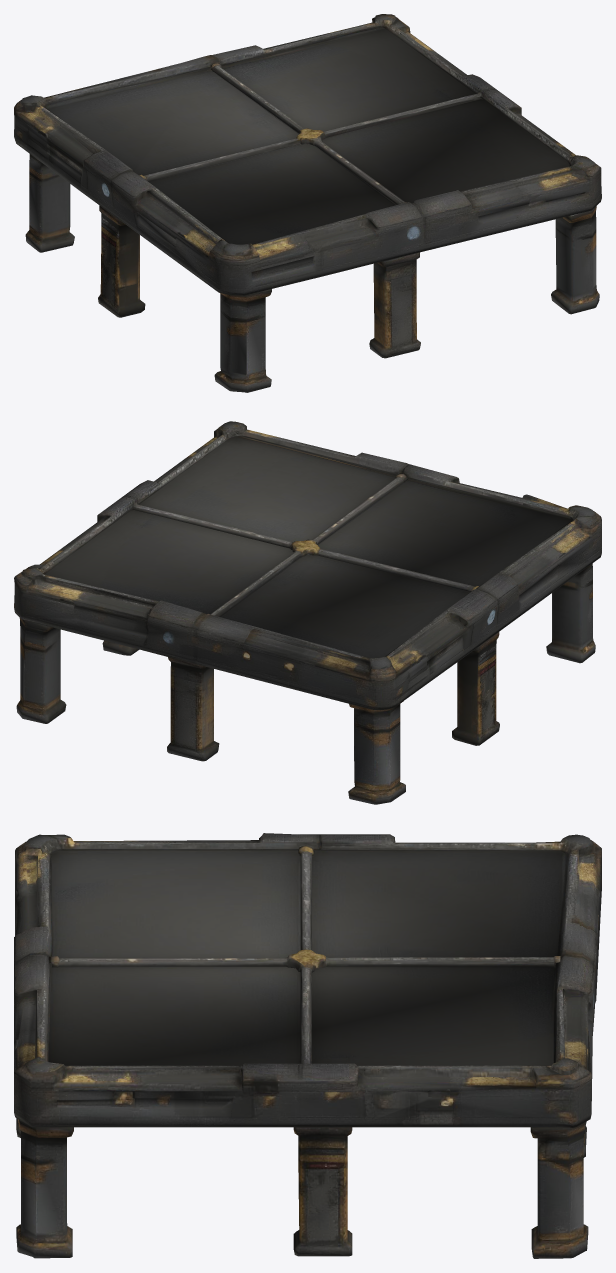
Rendered from selected.glb.
The picture shows the model from 3 angles, top to bottom: view 1: azimuth 30°, elevation 25°; view 2: azimuth 150°, elevation 25°; view 3: azimuth 270°, elevation 25°; orthographic projection. The views are drawn at different scales.
Visible parts, largest first — view 1: tripo_node_9d1d53e7-c334-4790-a00f-2185dd083b6f; view 2: tripo_node_9d1d53e7-c334-4790-a00f-2185dd083b6f; view 3: tripo_node_9d1d53e7-c334-4790-a00f-2185dd083b6f.
Boxes of the visible parts, <box> form: tripo_node_9d1d53e7-c334-4790-a00f-2185dd083b6f: <box>14,14,601,392</box>; tripo_node_9d1d53e7-c334-4790-a00f-2185dd083b6f: <box>14,421,601,804</box>; tripo_node_9d1d53e7-c334-4790-a00f-2185dd083b6f: <box>14,833,601,1258</box>.
Size of the model in its own units: 0.9941 by 0.3496 by 0.998.
Materials: 1 (1 with a texture image).
